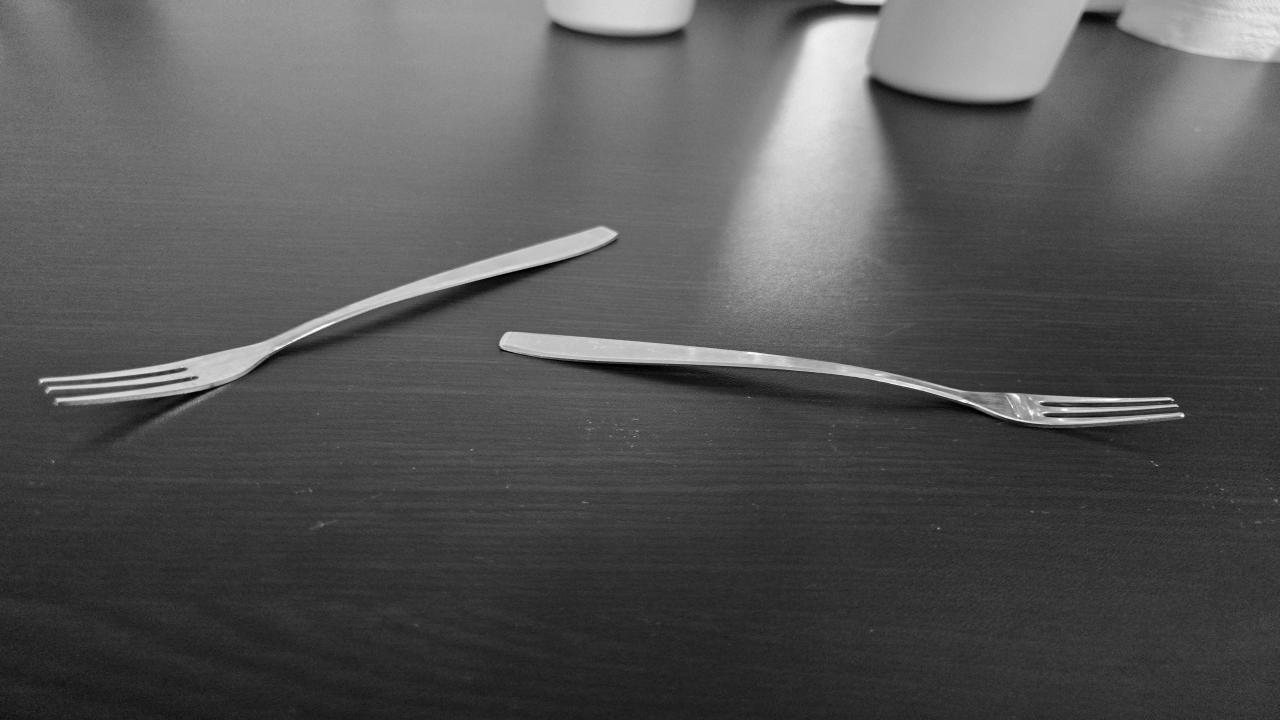fork: (39, 227, 621, 402), (497, 330, 1185, 426)
